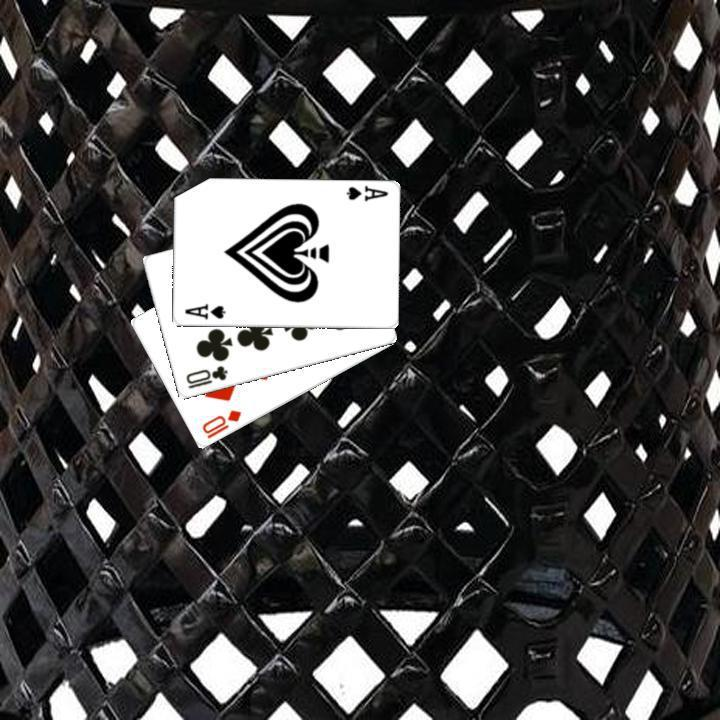10: (197, 406, 243, 441), (181, 362, 230, 391)
A: (180, 300, 227, 322), (341, 182, 390, 203)
